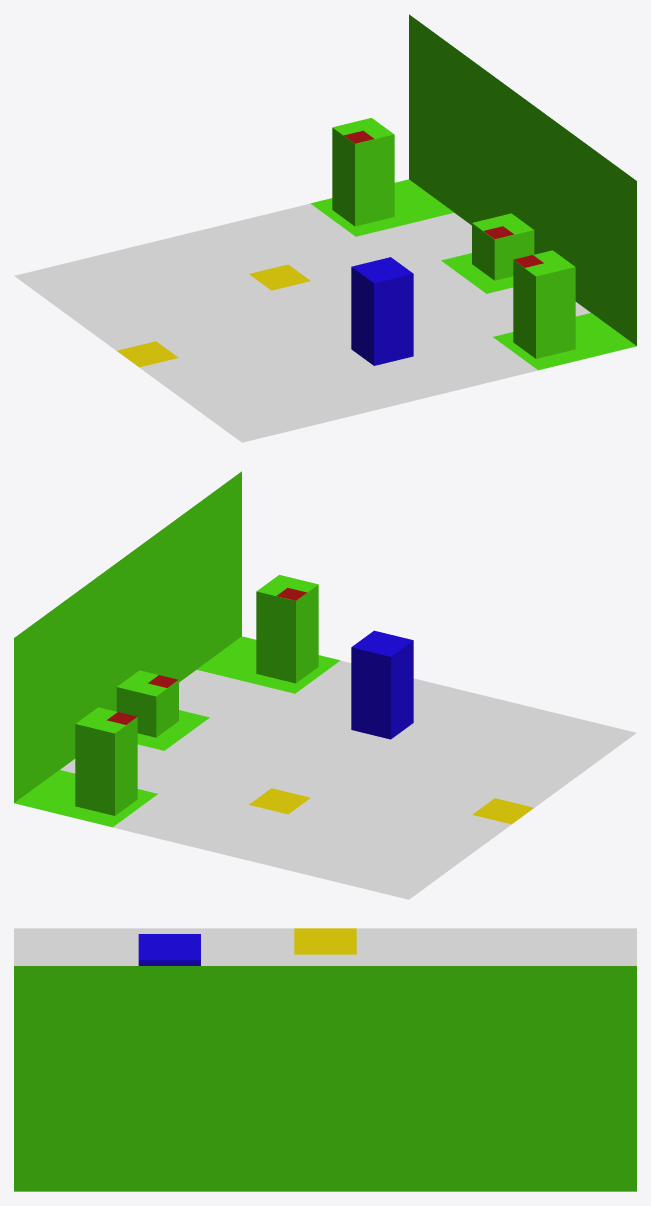
The model's file is Arena_KRTI_2021.dae.
The picture shows the model from 3 angles, top to bottom: view 1: azimuth 30°, elevation 25°; view 2: azimuth 150°, elevation 25°; view 3: azimuth 270°, elevation 25°; orthographic projection. The views are drawn at different scales.
Visible parts, largest first — view 1: Plane, Plane.003, Cube.003, Cube, Cube.001, Cube.002, Plane.005, Plane.004, Plane.006, Plane.002, Plane.001; view 2: Plane, Plane.003, Cube.003, Cube.001, Cube, Cube.002, Plane.004, Plane.005, Plane.006, Plane.002, Plane.001; view 3: Plane.003, Plane, Cube.003, Plane.001.
Boxes of the visible parts, x1=… form: Plane: x1=14, y1=203, x2=636, y2=442; Plane.003: x1=409, y1=14, x2=636, y2=345; Cube.003: x1=351, y1=257, x2=413, y2=365; Cube: x1=332, y1=118, x2=394, y2=226; Cube.001: x1=513, y1=250, x2=575, y2=358; Cube.002: x1=472, y1=213, x2=534, y2=280; Plane.005: x1=493, y1=313, x2=636, y2=370; Plane.004: x1=310, y1=179, x2=453, y2=236; Plane.006: x1=441, y1=253, x2=513, y2=293; Plane.002: x1=249, y1=264, x2=310, y2=290; Plane.001: x1=117, y1=341, x2=178, y2=367; Plane: x1=14, y1=660, x2=636, y2=899; Plane.003: x1=14, y1=471, x2=241, y2=802; Cube.003: x1=351, y1=630, x2=413, y2=739; Cube.001: x1=256, y1=575, x2=318, y2=683; Cube: x1=75, y1=707, x2=137, y2=815; Cube.002: x1=116, y1=670, x2=178, y2=737; Plane.004: x1=14, y1=770, x2=157, y2=827; Plane.005: x1=197, y1=636, x2=340, y2=693; Plane.006: x1=137, y1=710, x2=209, y2=750; Plane.002: x1=249, y1=788, x2=310, y2=814; Plane.001: x1=472, y1=798, x2=533, y2=824; Plane.003: x1=14, y1=966, x2=636, y2=1191; Plane: x1=14, y1=928, x2=636, y2=965; Cube.003: x1=138, y1=934, x2=200, y2=965; Plane.001: x1=294, y1=928, x2=356, y2=954.
Size of the model in its own units: 20 by 20 by 8.
